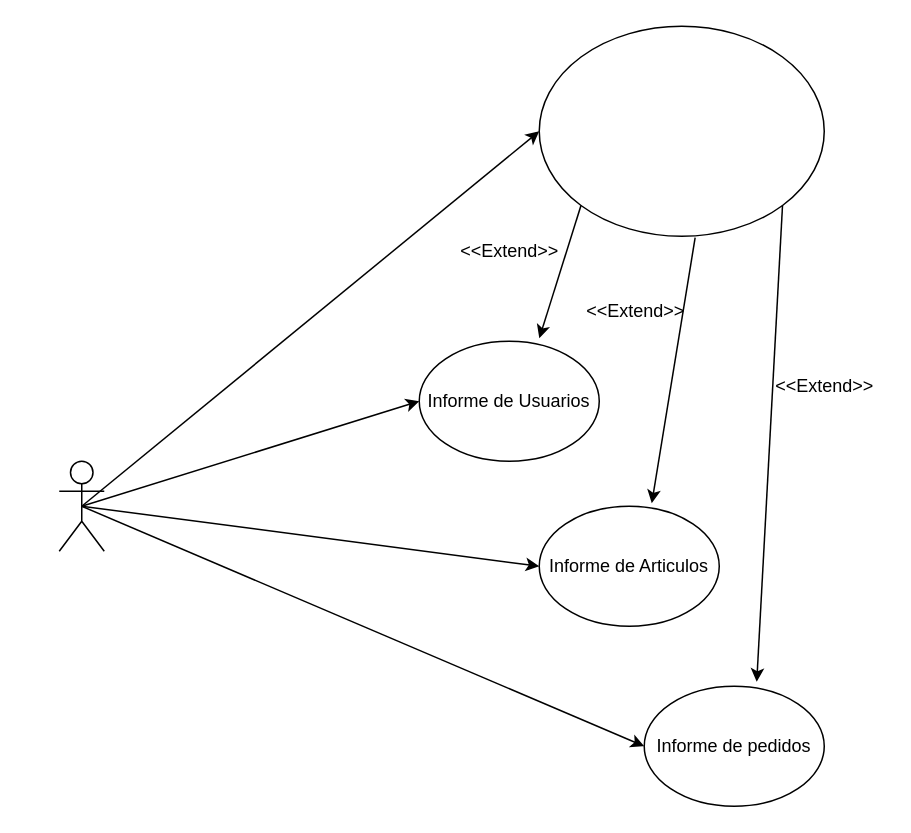
The diagram is 911 pixels wide and 833 high, and some of its shapes have lost their labels. Each missing label, with the box of its shape:
Administrador: (58, 460, 104, 551)
Identificacion en la aplicacion: (538, 25, 824, 236)
